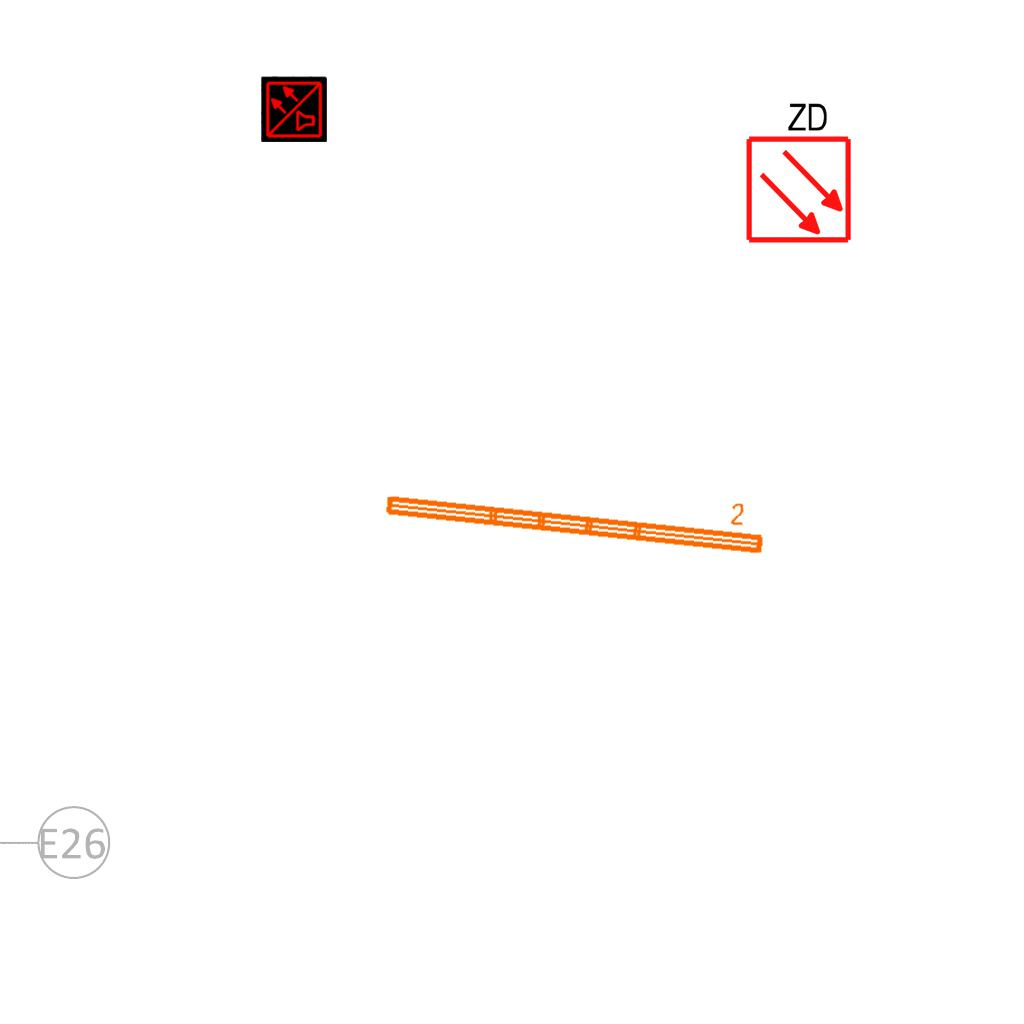Ambulanz_Pendelleuchte_LED: (380, 463, 771, 561)
OKW_Multisensormelder_(Kombination_optischer_Rauch-Kahlenmonoxid_Waerme-Melder): (261, 76, 327, 142)
ZD_Melder_in_Zwischendecke_mit_Revisionsoeffnung_mind_40_x_40_cm: (740, 96, 854, 245)
